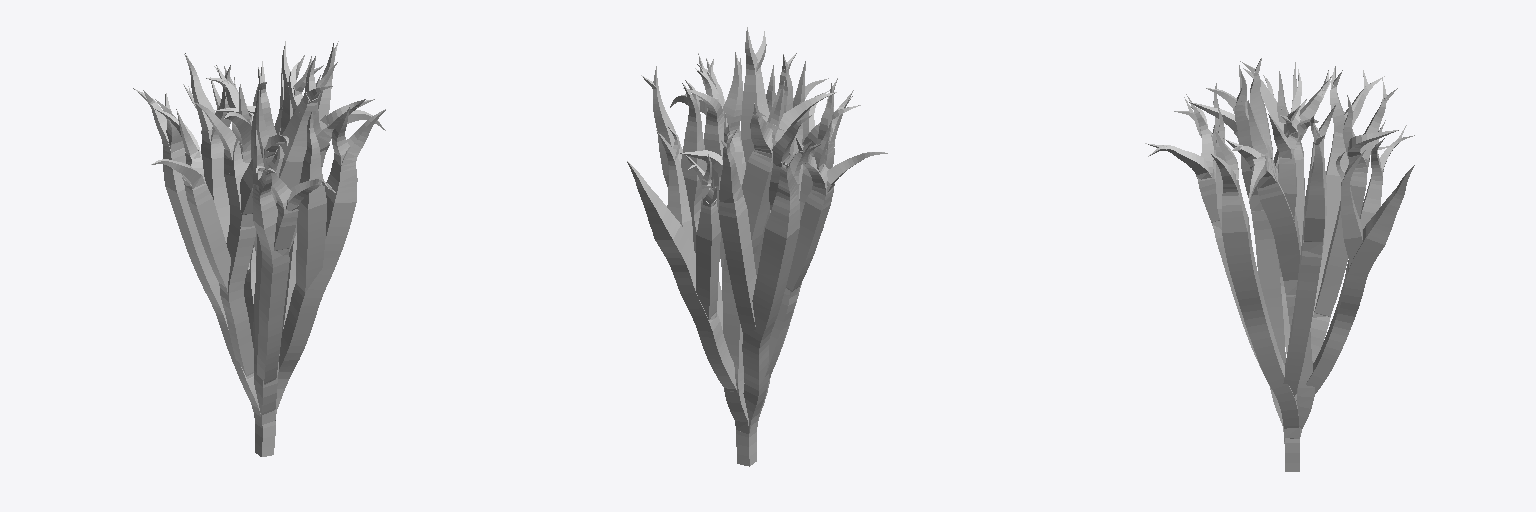
The model's file is bendytree.obj.
3 views of the same model, side by side, from view 1: azimuth 30°, elevation 25°; view 2: azimuth 150°, elevation 25°; view 3: azimuth 270°, elevation 25° (orthographic).
Parts seen in each view (by area): view 1: treemesh_treemesh.001; view 2: treemesh_treemesh.001; view 3: treemesh_treemesh.001.
Part boxes in pixels (x1,y1,x2,y2): treemesh_treemesh.001: (133,41,385,456); treemesh_treemesh.001: (627,27,887,466); treemesh_treemesh.001: (1145,58,1414,471).
Bounding box in the file's own units: 3.77 × 6.5 × 3.87.